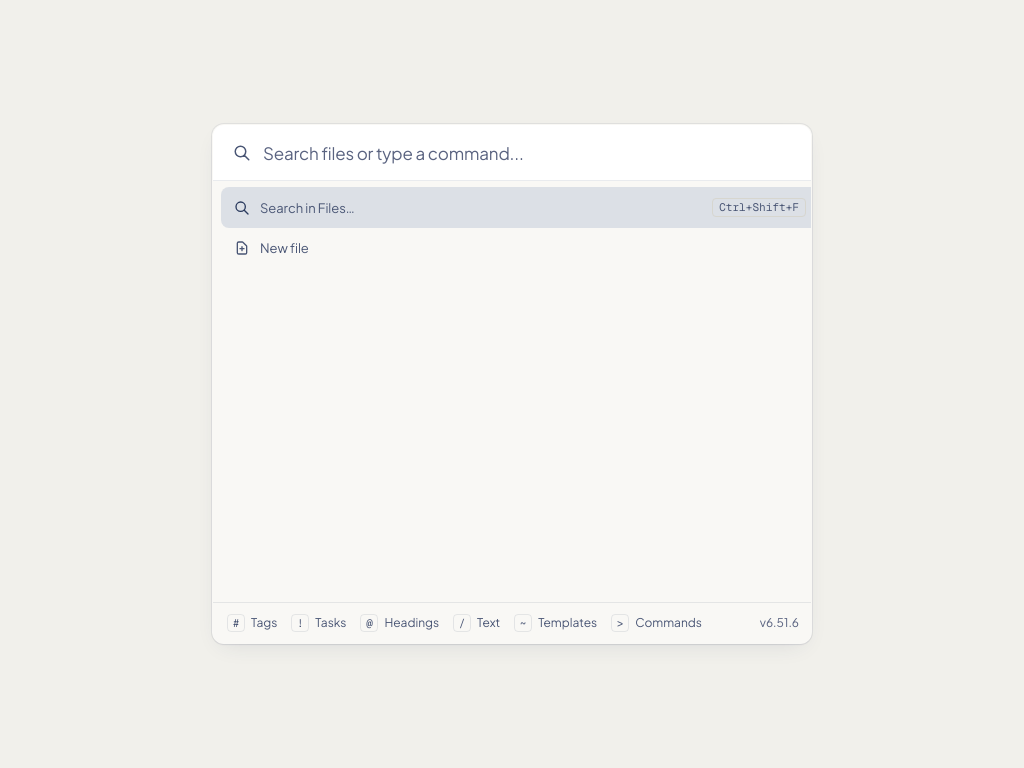
it: CommandPalette › Search in Files… switches to note text search without closing
The image size is (1024, 768).
Press k
Click the option "Search in Files… Ctrl+Shift+F" at (759, 208), box [221,187,819,228]
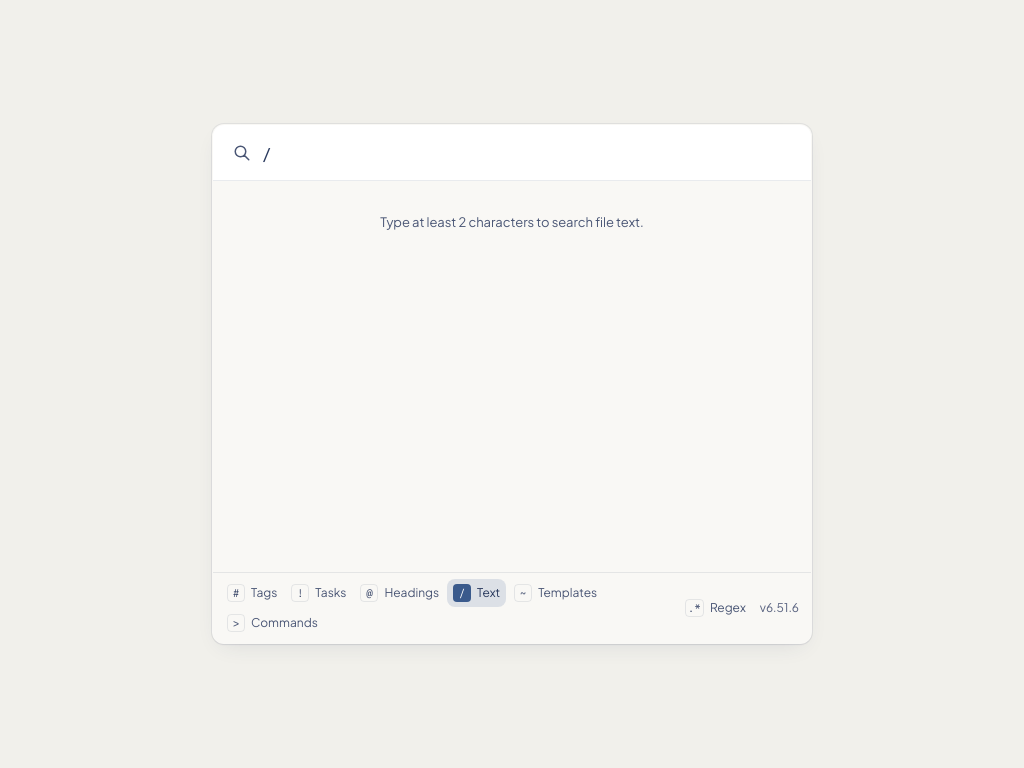
expect the dropdown holds "/": met, box [263,125,799,180]
